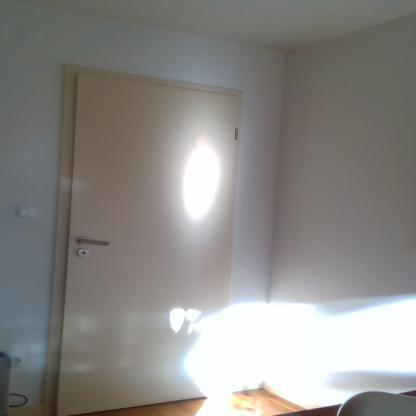door: (76, 72, 238, 394)
hinged: (230, 124, 242, 141)
lever: (76, 236, 111, 248)
